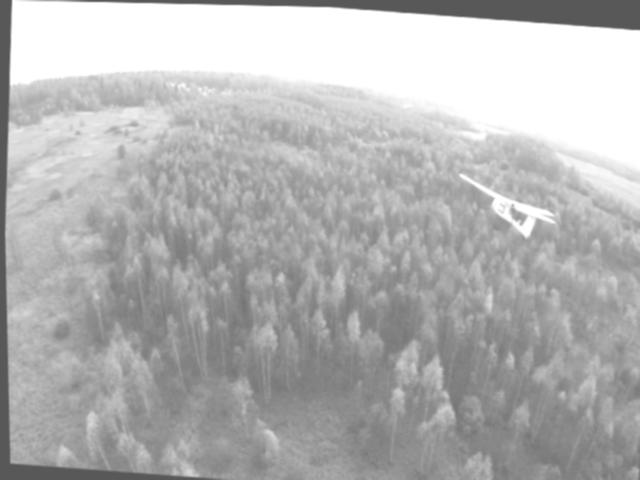hedef: (450, 162, 557, 248)
